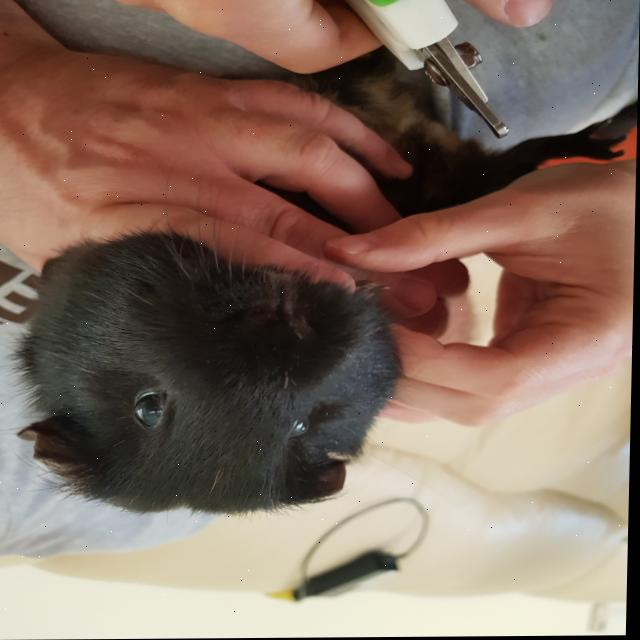guinea pig: (13, 44, 635, 518)
